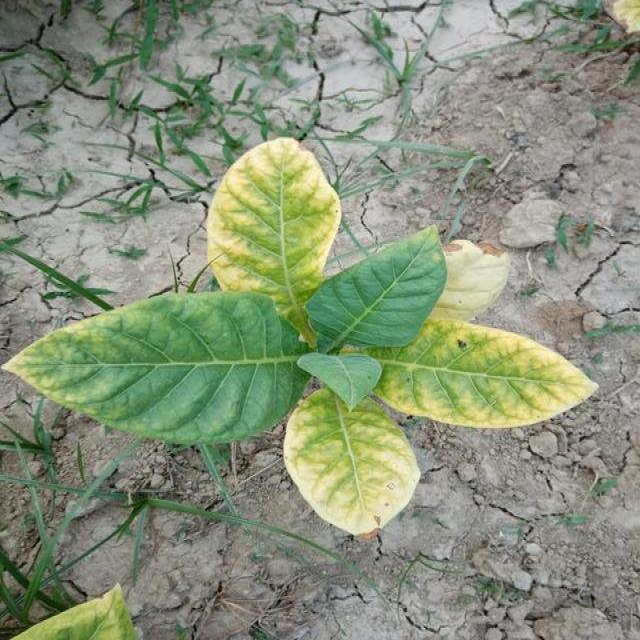crop: (0, 137, 604, 531), (6, 583, 145, 640)
